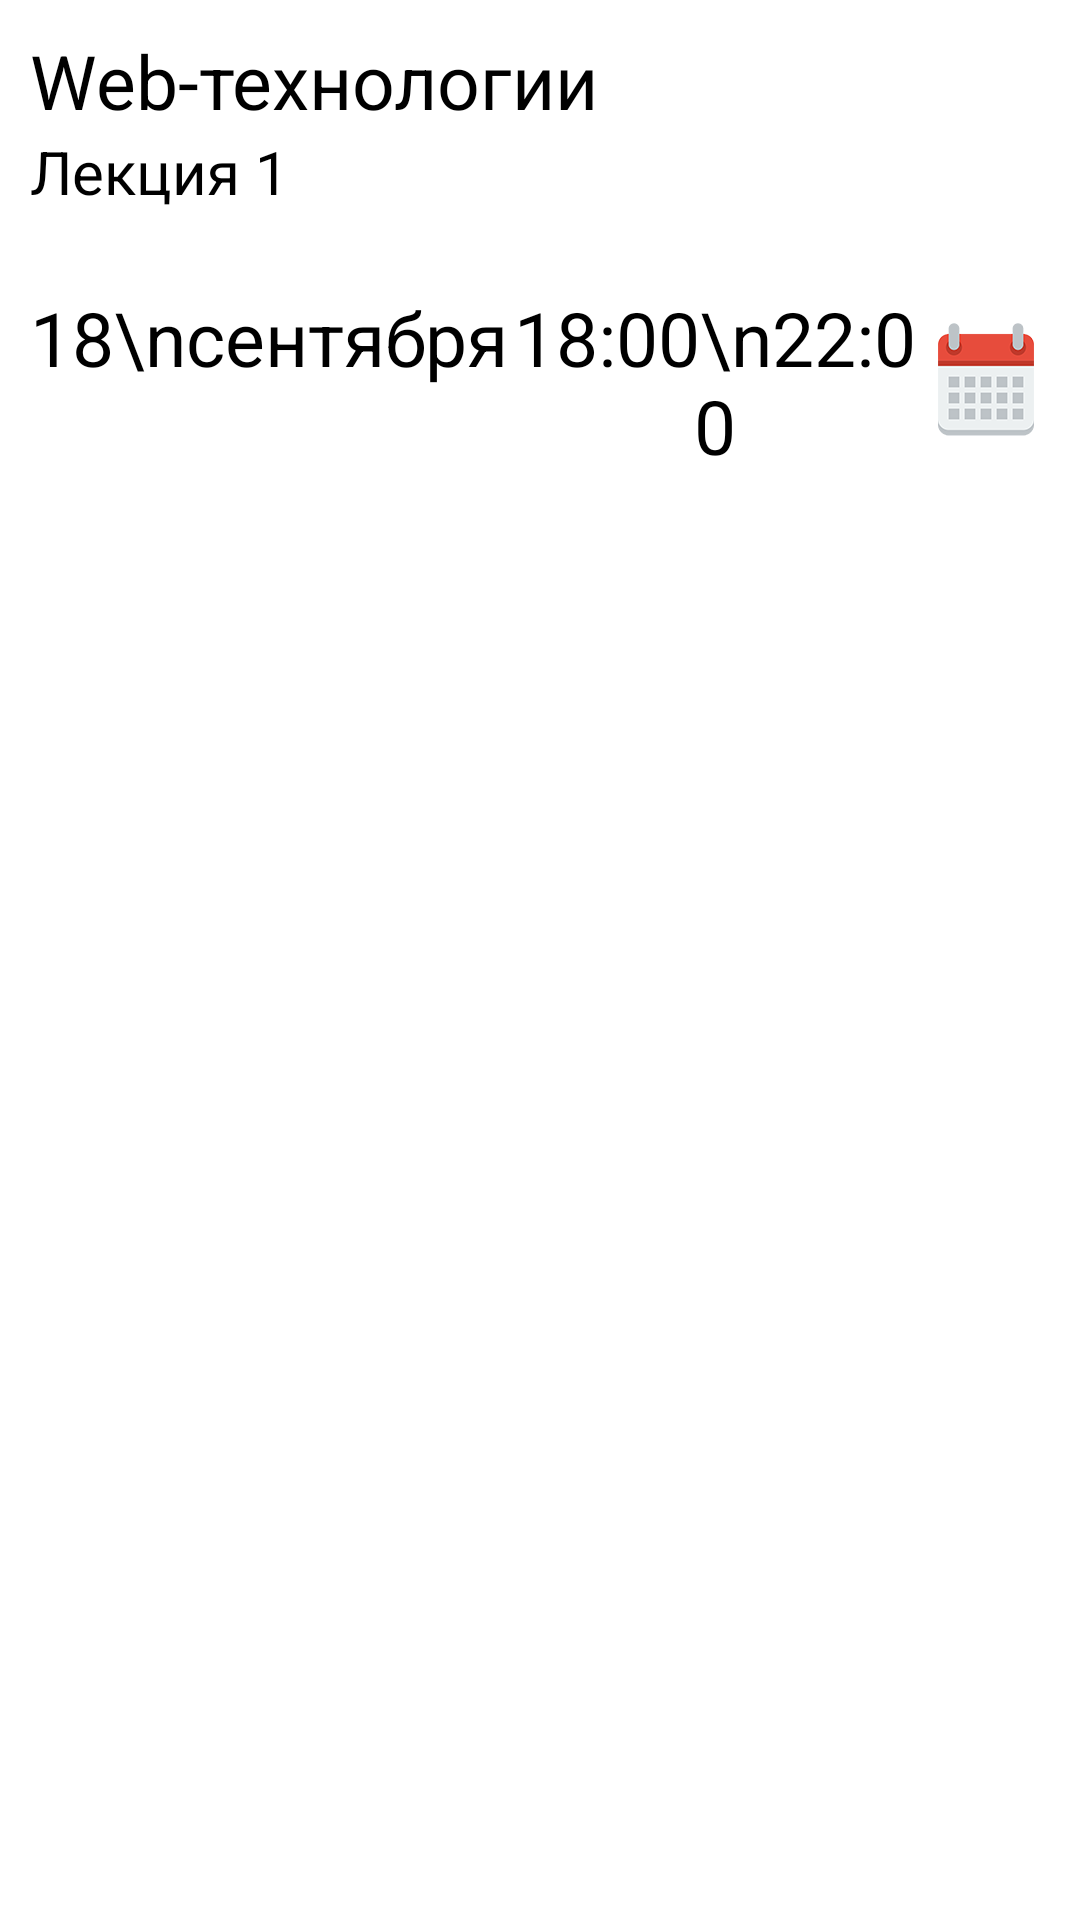

Icons on this 1080 x 1920 Android screen, each with the point to tap as point (x, y):
calendar: point (986, 379)
